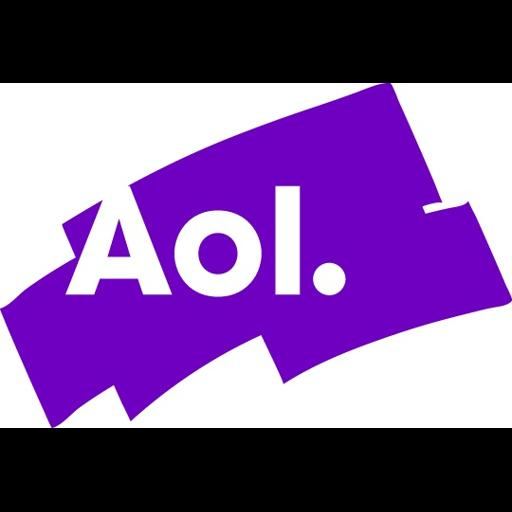AOL: (0, 83, 512, 428)
